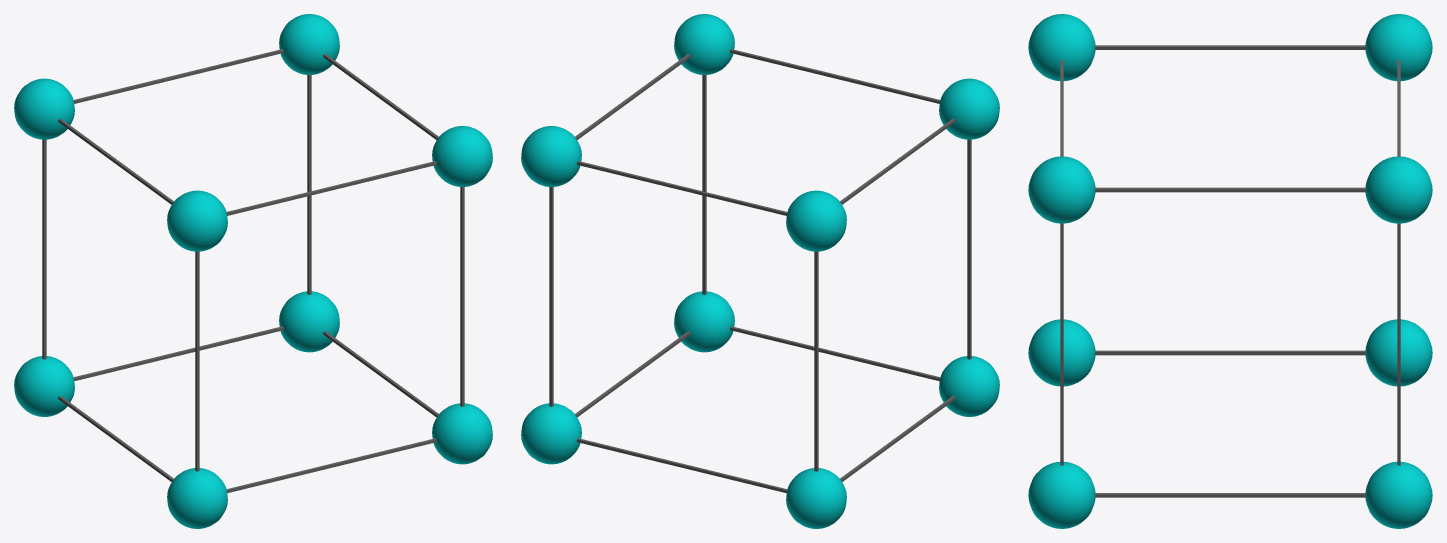
Rendered from SC_centrada_fix.glb.
The picture shows the model from 3 angles, left to right: view 1: azimuth 30°, elevation 25°; view 2: azimuth 150°, elevation 25°; view 3: azimuth 270°, elevation 25°; orthographic projection. The views are drawn at different scales.
Parts seen in each view (by area): view 1: arista13; view 2: arista13; view 3: arista13.
Part boxes in pixels (x1,y1,x2,y2): arista13: [14, 14, 492, 528]; arista13: [521, 14, 999, 528]; arista13: [1028, 14, 1432, 528].
Size of the model in its own units: 1.2 by 1.2 by 1.2.
